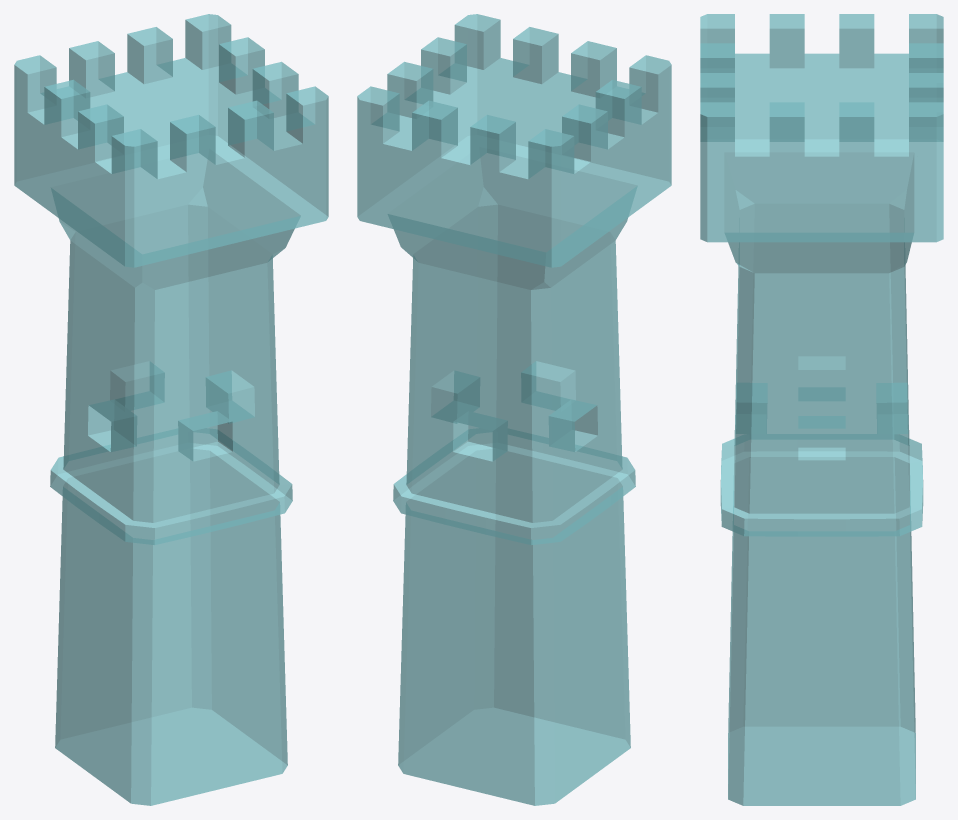
Rendered from Tower_blueprint.fbx.
3 views of the same model, side by side, from view 1: azimuth 30°, elevation 25°; view 2: azimuth 150°, elevation 25°; view 3: azimuth 270°, elevation 25° (orthographic). The views are drawn at different scales.
Visible parts, largest first — view 1: 立方体; view 2: 立方体; view 3: 立方体.
Boxes of the visible parts, x1,y1,x2,y2 form: 立方体: (14,14,328,805); 立方体: (357,14,671,805); 立方体: (700,14,943,805).
Size of what is drawn, in the model's own units: 130 by 412 by 130.
